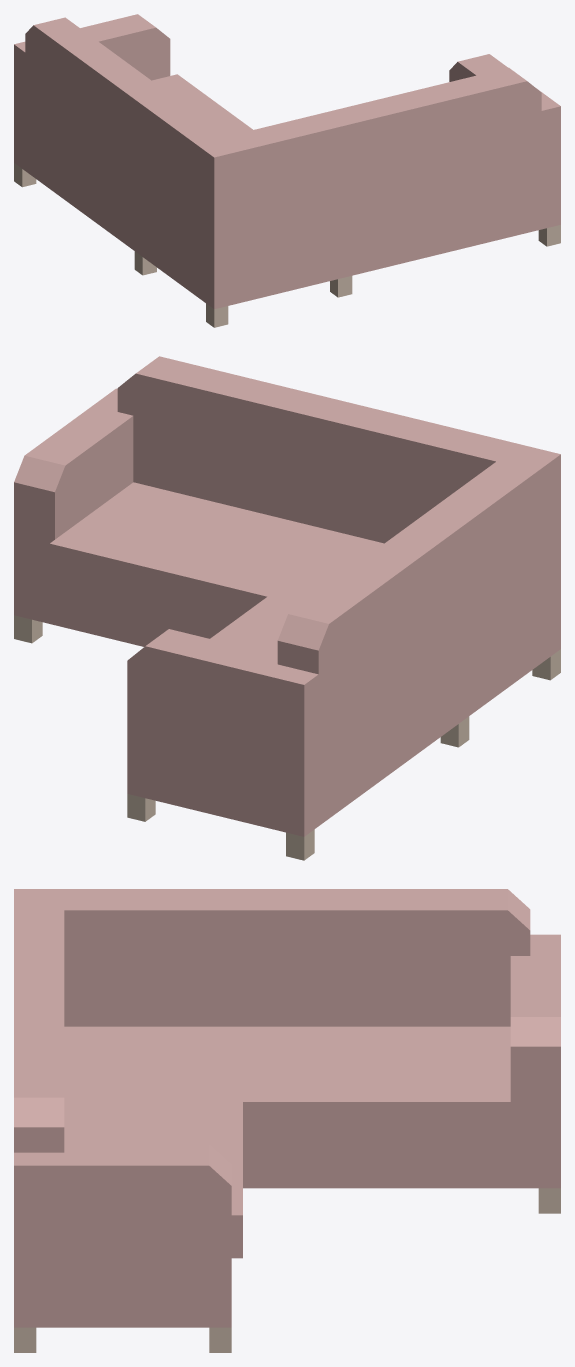
File: furn_loungeSofaCorner.glb
3 views of the same model, one above another, from view 1: azimuth 30°, elevation 25°; view 2: azimuth 150°, elevation 25°; view 3: azimuth 270°, elevation 25° (orthographic). The views are drawn at different scales.
Bounding box in the file's own units: 1.96 × 0.92 × 1.96.
